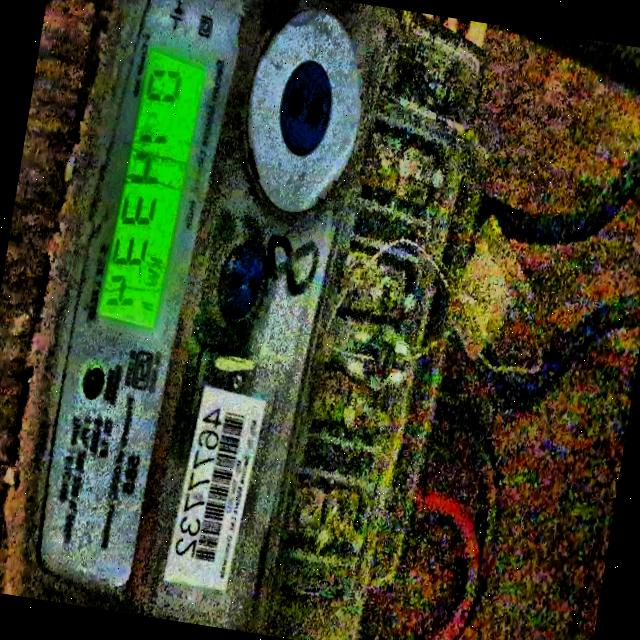Digital: (16, 0, 495, 640)
Reading: (102, 58, 187, 319)
Serial No.: (173, 399, 223, 566)
